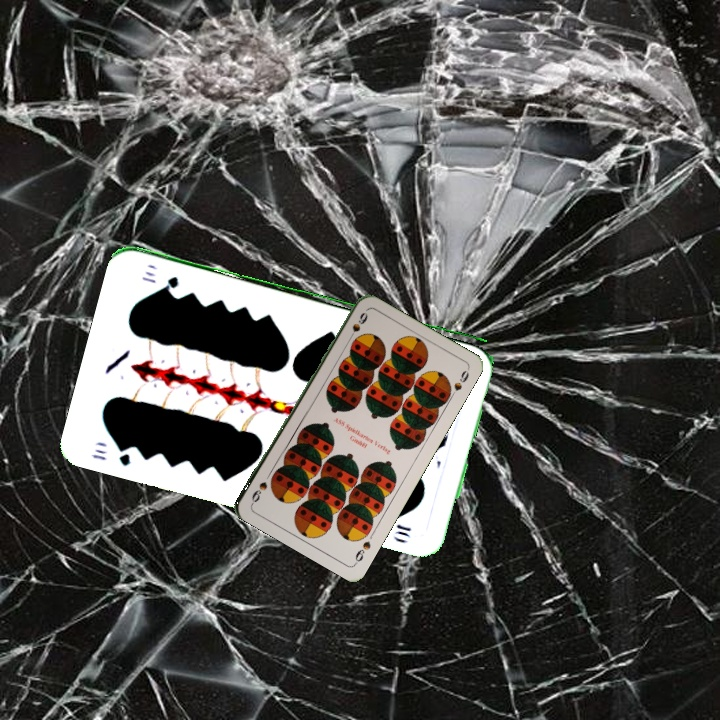G10: (87, 440, 135, 469)
S9: (343, 308, 370, 345), (351, 537, 373, 567)
